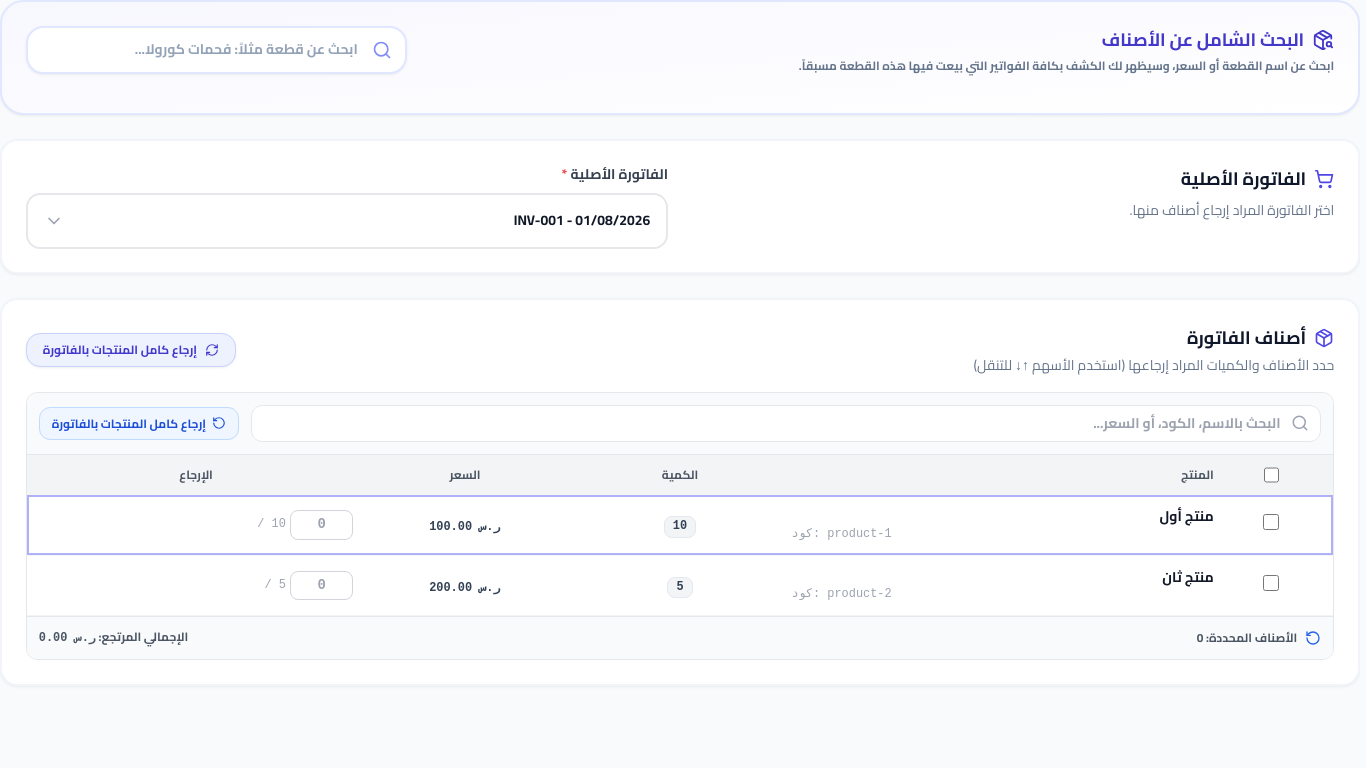
Test case: ReturnItemsStep › تحديد checkbox ثم تغيير الكمية يعمل دون تكرار الصنف
// تحديد أول صنف عبر checkbox
Click the checkbox named "تحديد وإرجاع كامل المنتجات بالفاتورة": (1271,475) 1264,467 -> 1279,483
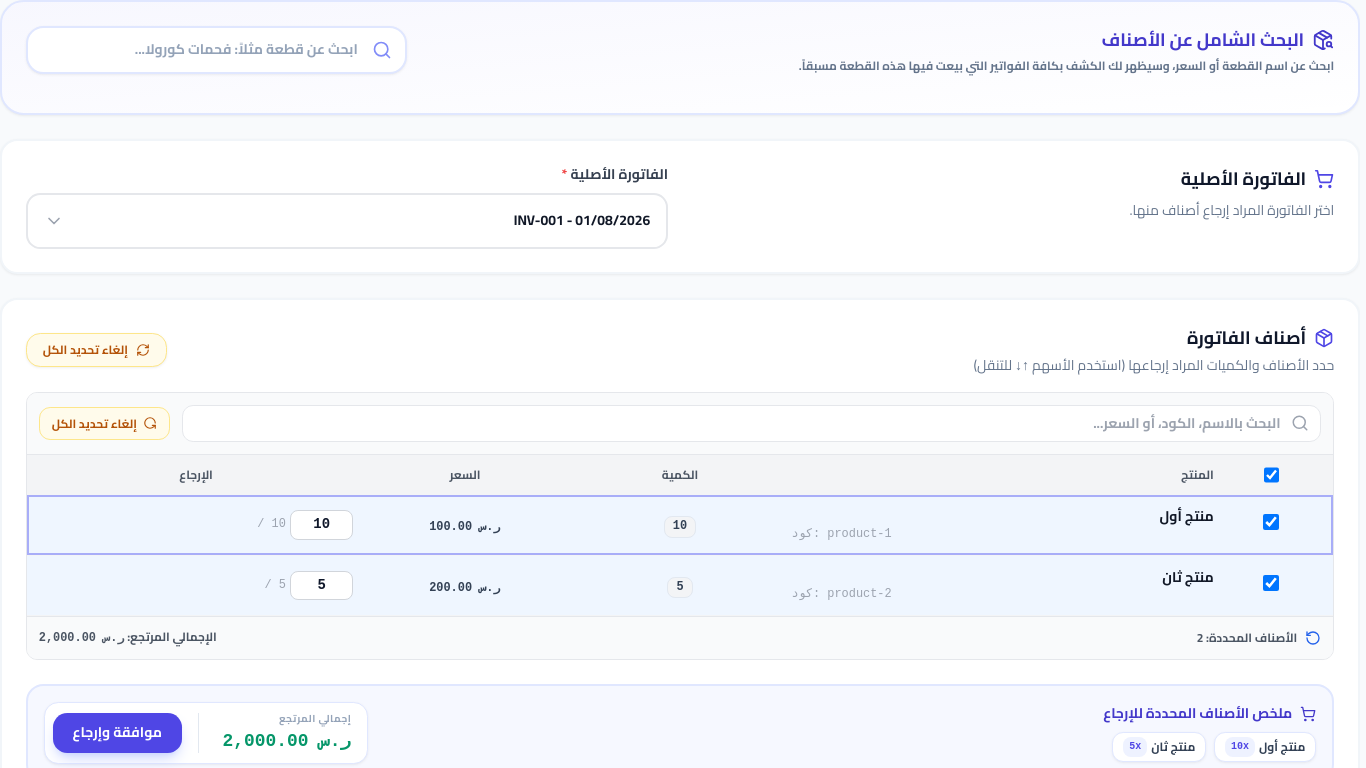
Expected: the text "منتج أول" is shown 2 times, 1160,503 -> 1214,529; 1259,739 -> 1305,755
Replace the text in the field with test id "return-quantity-input" with "4": (322,525) 290,510 -> 353,540
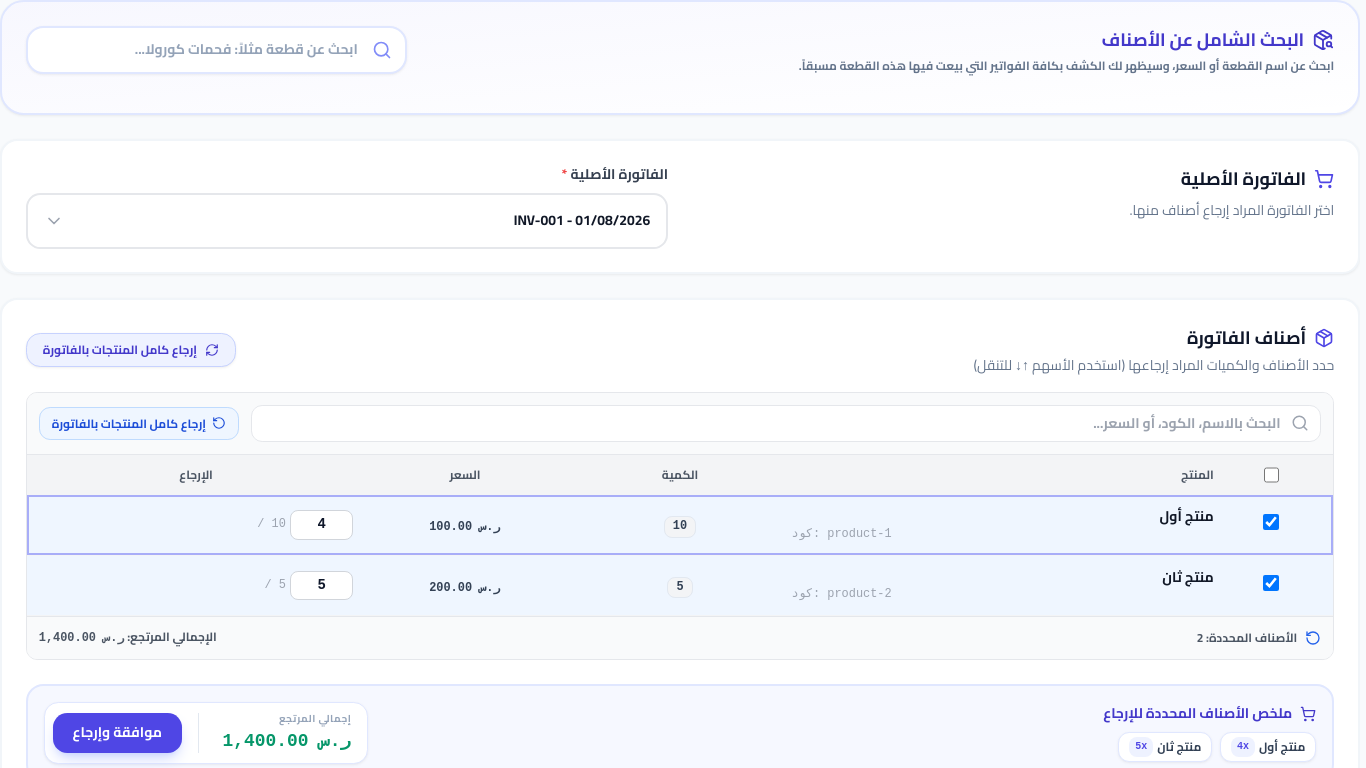
Expected: the text "منتج أول" is shown 2 times, 1160,503 -> 1214,529; 1259,739 -> 1305,755
Now the text "4x" is shown, box 1231,737 -> 1255,757
